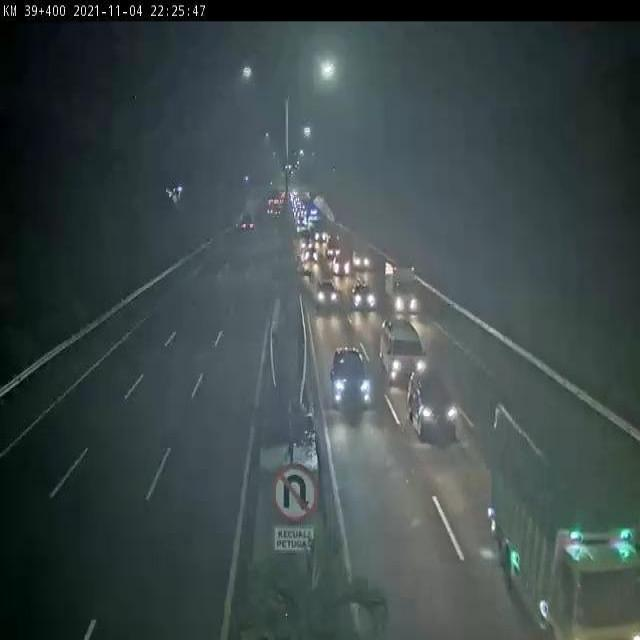car: (408, 364, 463, 445), (378, 312, 425, 389), (328, 347, 373, 412), (348, 277, 378, 312), (314, 276, 340, 312), (353, 248, 373, 273), (238, 210, 256, 234), (302, 260, 322, 279), (333, 256, 351, 277), (314, 220, 328, 244), (299, 232, 314, 251), (304, 247, 319, 264)
truck-m-: (490, 403, 640, 632)
truck-s-: (384, 258, 424, 318), (326, 233, 342, 259)
